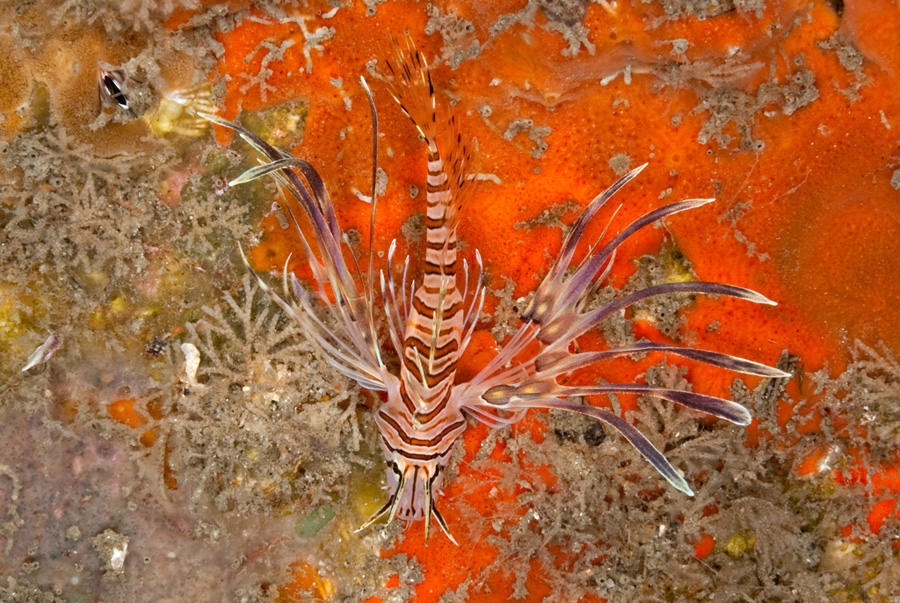Pterois_volitans: (184, 44, 727, 544)
